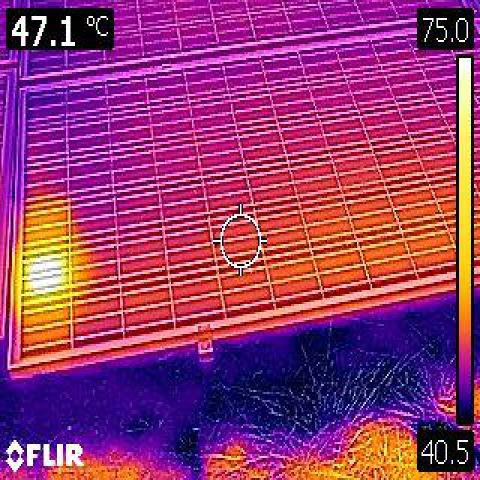fault: (22, 259, 68, 296)
